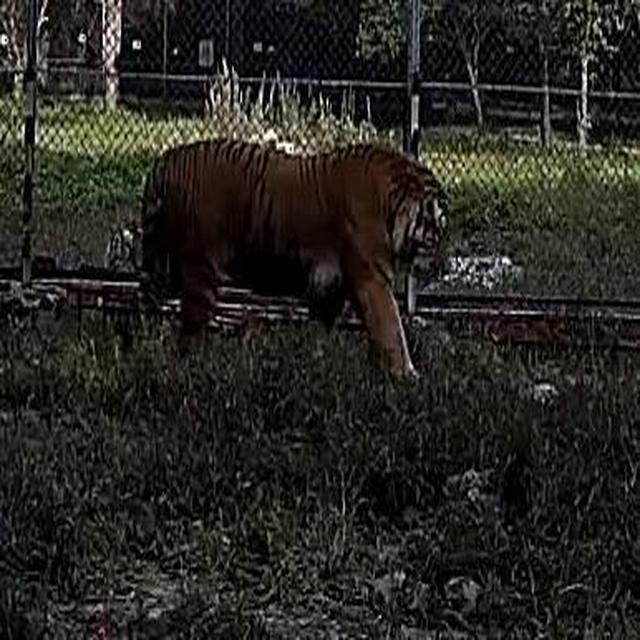tiger: (105, 135, 450, 383)
